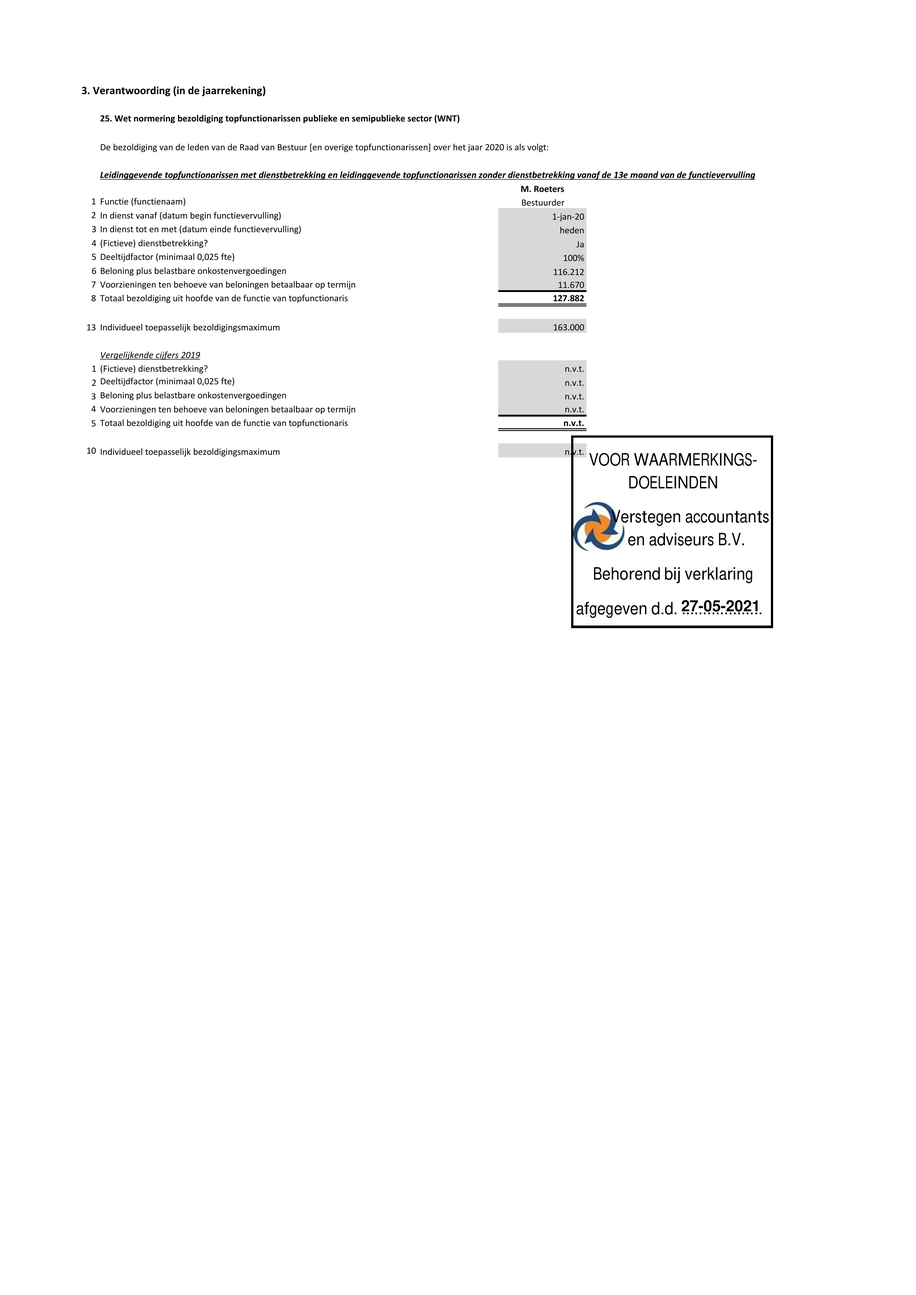coulmn: (84, 193, 360, 466), (489, 185, 594, 462)
